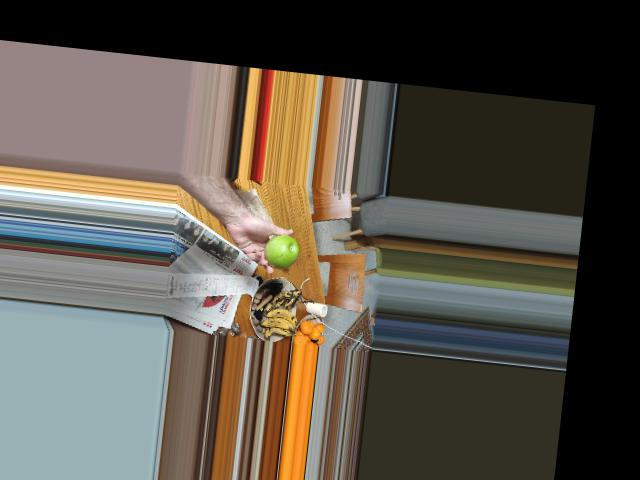apple: (261, 234, 302, 270)
